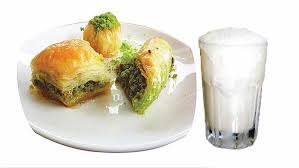baklava: (31, 40, 113, 106)
